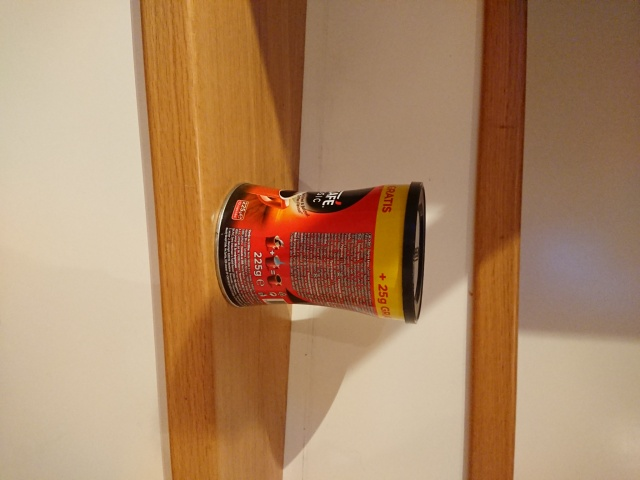Nescafe Classic 225g: (210, 179, 429, 327)
